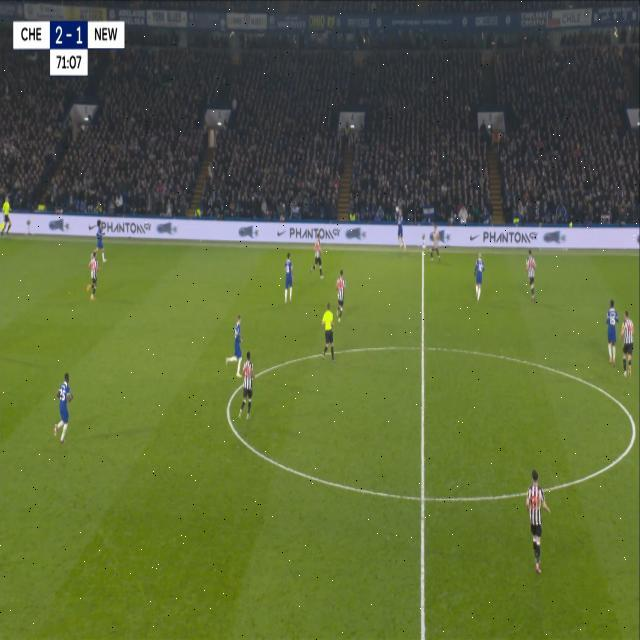Chelsea: (51, 367, 76, 447), (224, 310, 246, 380), (604, 298, 620, 366), (471, 248, 486, 306), (283, 252, 295, 302)
Newcastle: (522, 464, 552, 578), (240, 350, 258, 420), (620, 310, 634, 377), (524, 245, 538, 305), (308, 235, 324, 285), (334, 268, 348, 322), (86, 250, 100, 302)
Refree: (318, 298, 338, 366)
